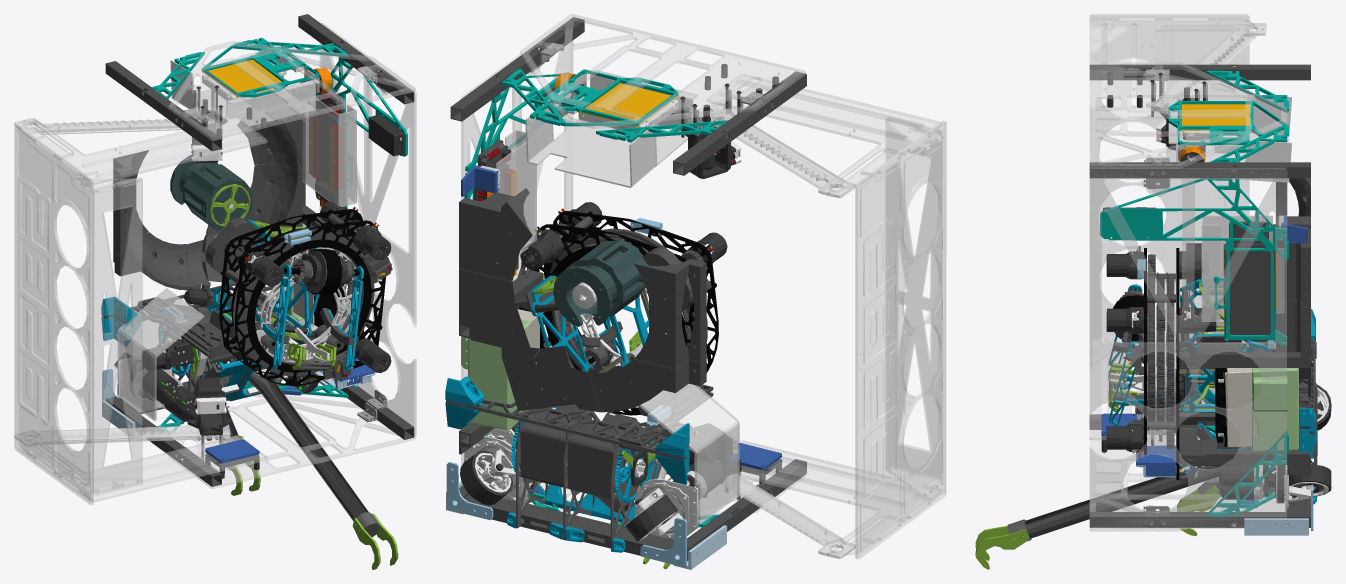
3 renders of one model, left to right at view 1: azimuth 30°, elevation 25°; view 2: azimuth 150°, elevation 25°; view 3: azimuth 270°, elevation 25°, orthographic. The views are drawn at different scales.
Visible parts, largest first — view 1: main_mesh, c0_mesh; view 2: main_mesh, c0_mesh; view 3: main_mesh, c0_mesh.
Boxes of the visible parts, <box> form: main_mesh: <box>101,14,416,569</box>; c0_mesh: <box>14,89,267,504</box>; main_mesh: <box>445,14,806,569</box>; c0_mesh: <box>683,74,946,559</box>; main_mesh: <box>975,62,1331,569</box>; c0_mesh: <box>1089,14,1266,445</box>.
Bounding box in the file's own units: 0.8446 × 1.04 × 0.7623.
